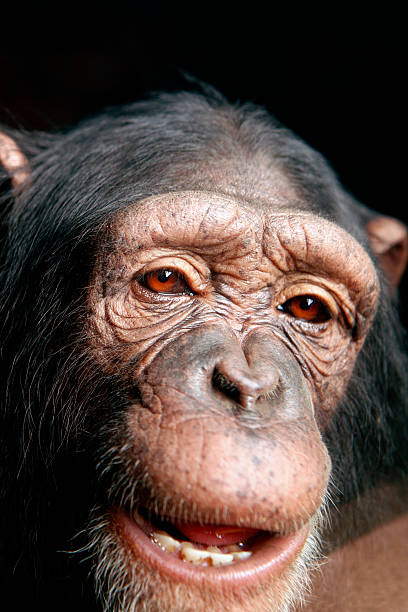chimpanzee: (1, 40, 407, 610)
